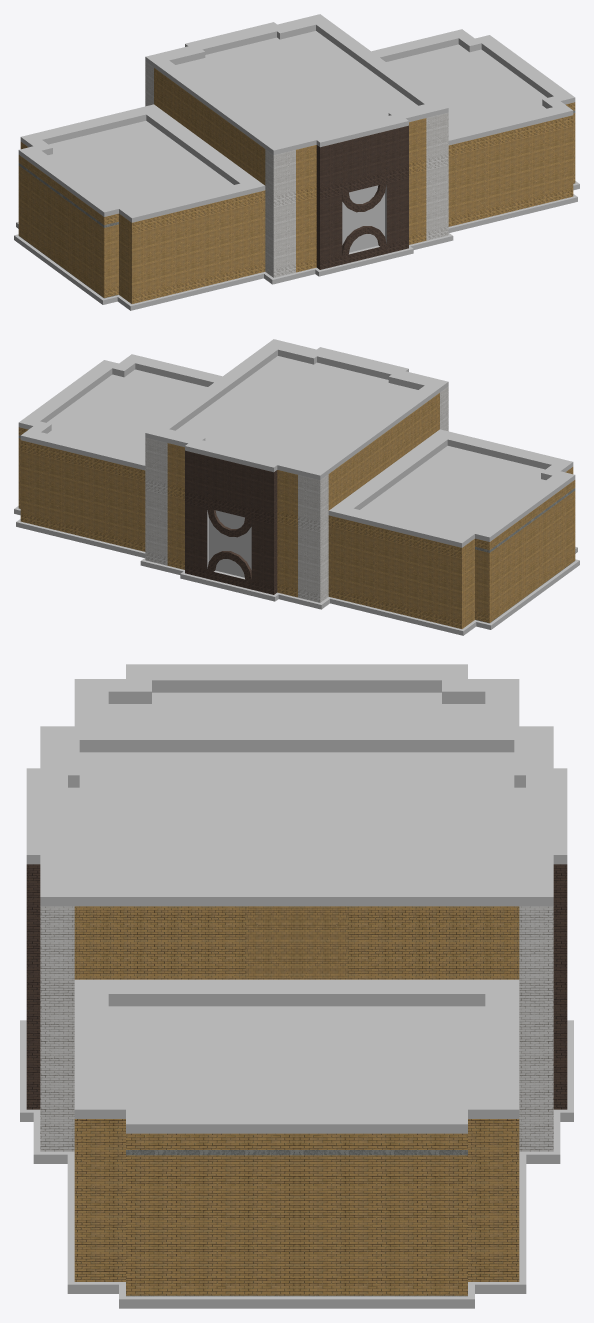
The model's file is Building_3.fbx.
The picture shows the model from 3 angles, top to bottom: view 1: azimuth 30°, elevation 25°; view 2: azimuth 150°, elevation 25°; view 3: azimuth 270°, elevation 25°; orthographic projection. The views are drawn at different scales.
Parts seen in each view (by area): view 1: Building_3; view 2: Building_3; view 3: Building_3.
Boxes of the visible parts, left/top/right/bottom form: Building_3: left=14, top=14, right=579, bottom=310; Building_3: left=14, top=339, right=579, bottom=635; Building_3: left=20, top=664, right=573, bottom=1308.
Size of the model in its own units: 3220 by 852 by 1620.
